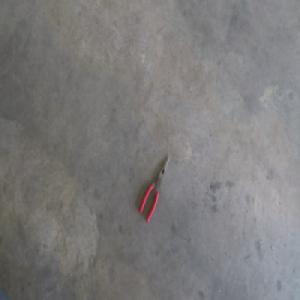Pliers: (139, 154, 170, 222)
